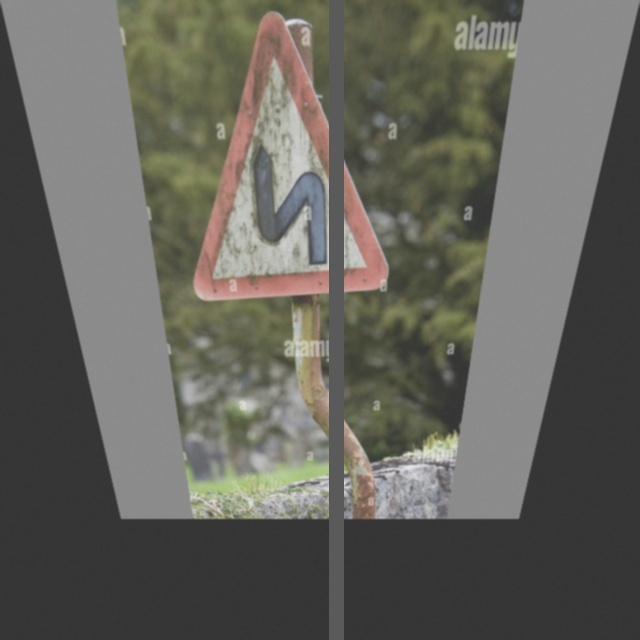Left_Reverse_Bend: (167, 10, 416, 300)
